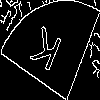K: (24, 25, 64, 83)
